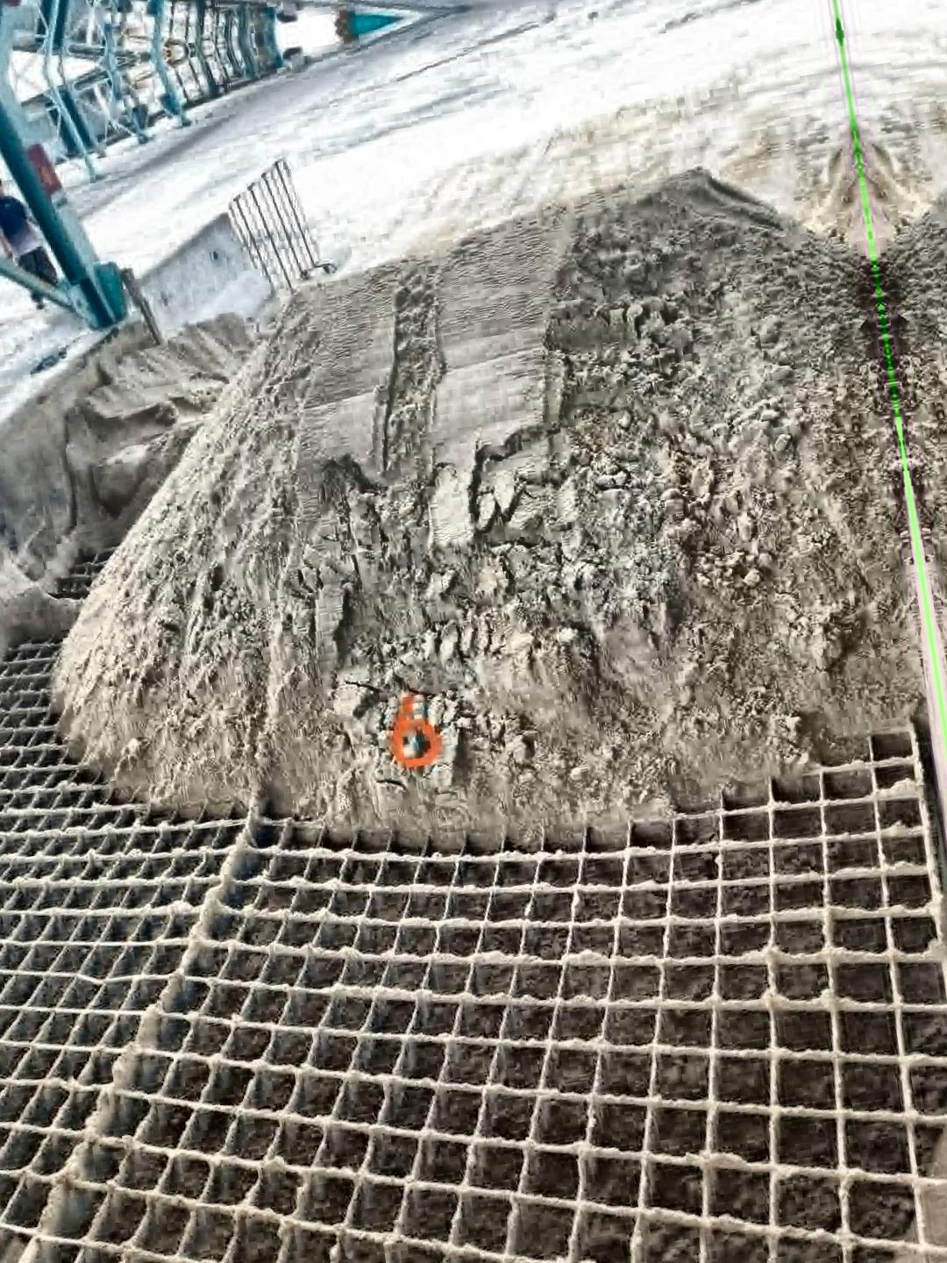sand: (54, 172, 923, 839), (66, 316, 255, 550), (813, 128, 869, 255)
